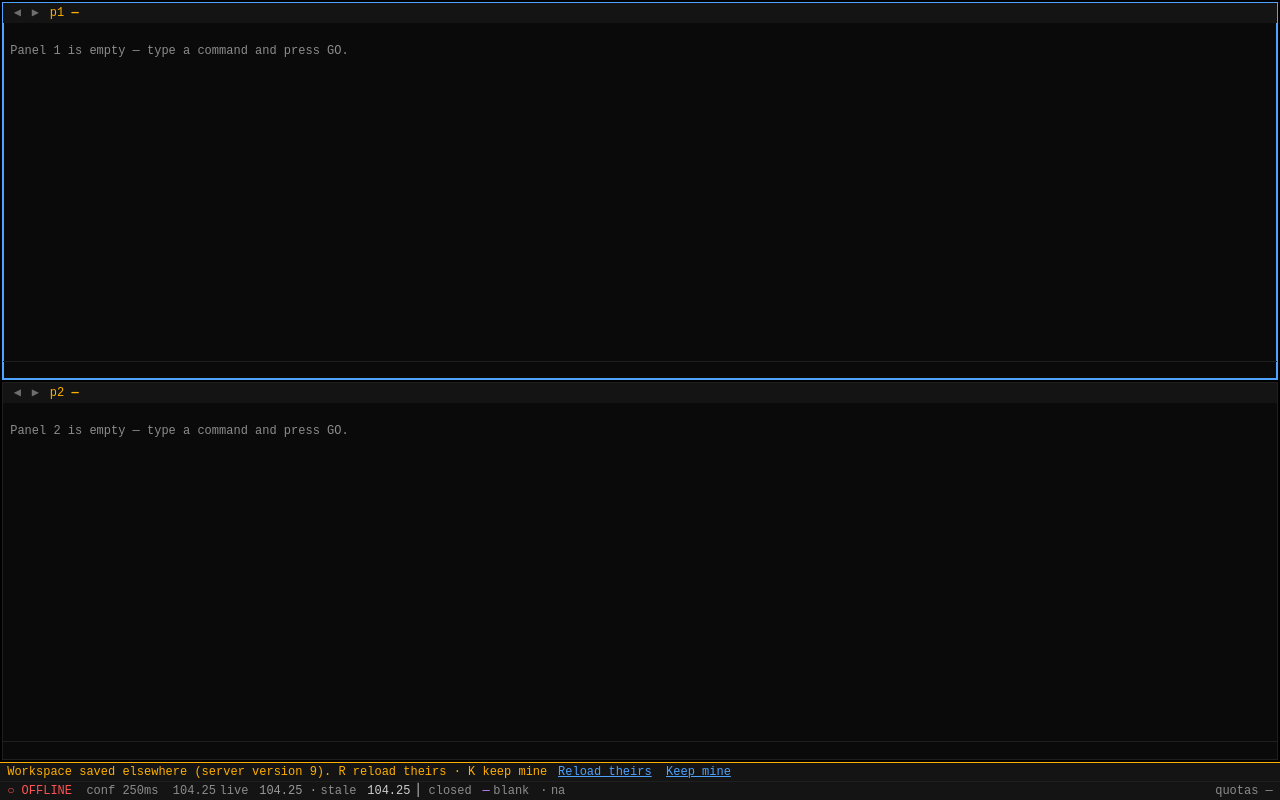
the workspace › surfaces a 409 the merge could not settle, and lets the user act on it
Check: the message with test id "workspace-conflict" shows "Workspace saved elsewhere (server version 9)", box [7,765,547,779]
// …and the message is actionable, not merely informative.
Click the button "Reload theirs". click: {"x": 605, "y": 772}
box: [554,763,655,781]
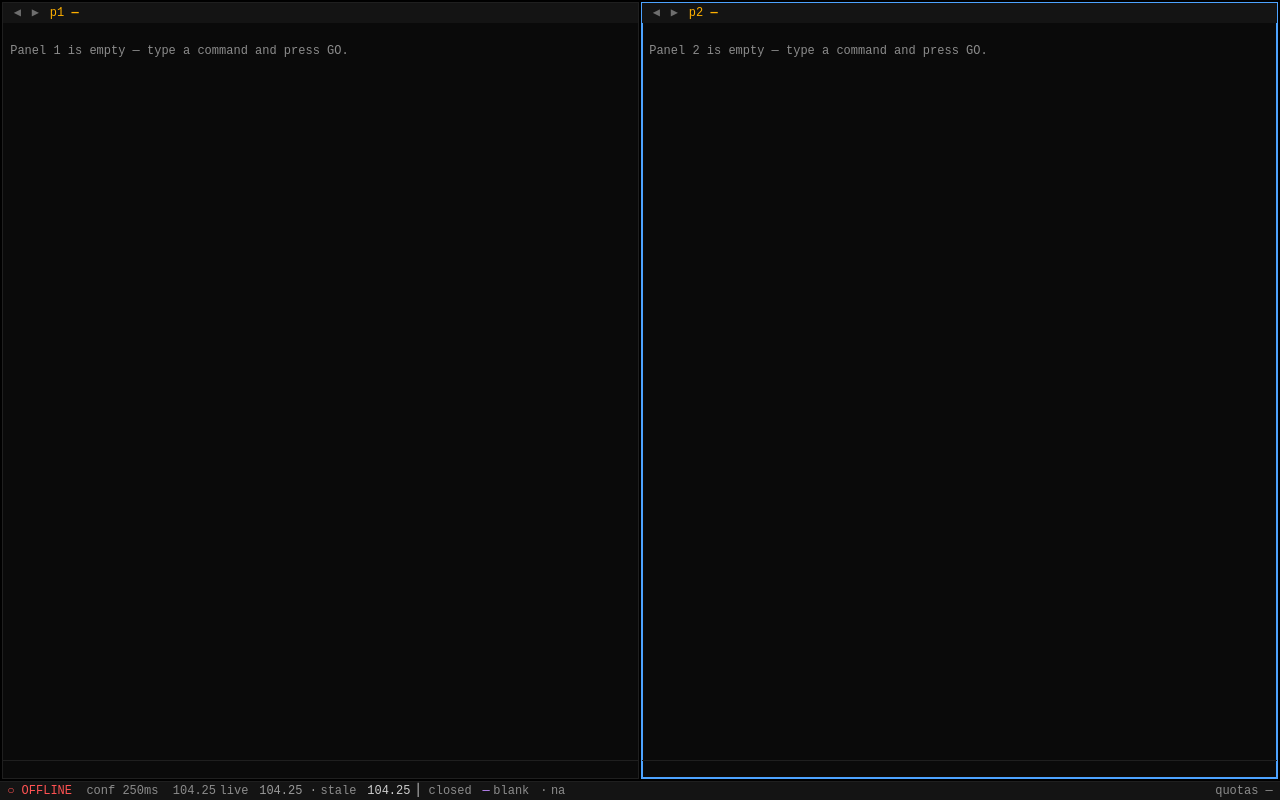
Check: the message with test id "workspace-conflict" is gone
